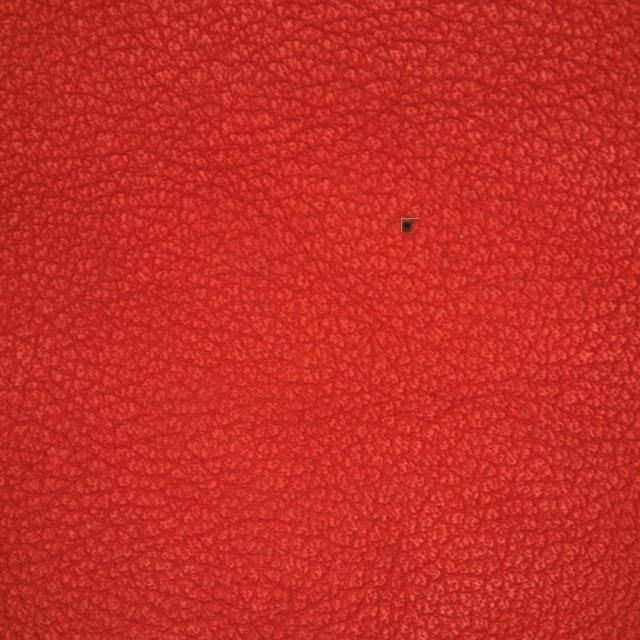Hole: (338, 140, 483, 312)
